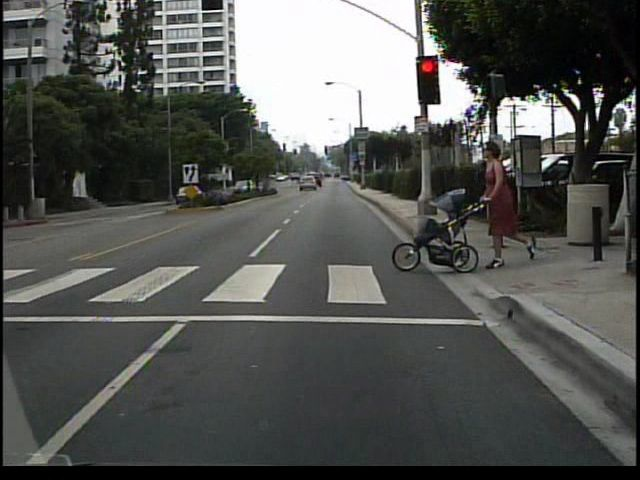person: (479, 139, 543, 272)
